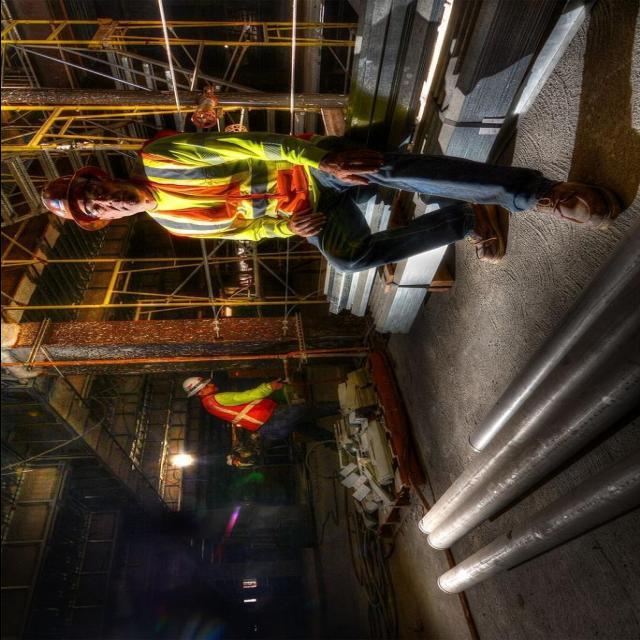helmet: (36, 158, 106, 239), (180, 372, 211, 400)
jacket: (136, 132, 323, 246), (194, 384, 266, 439)
